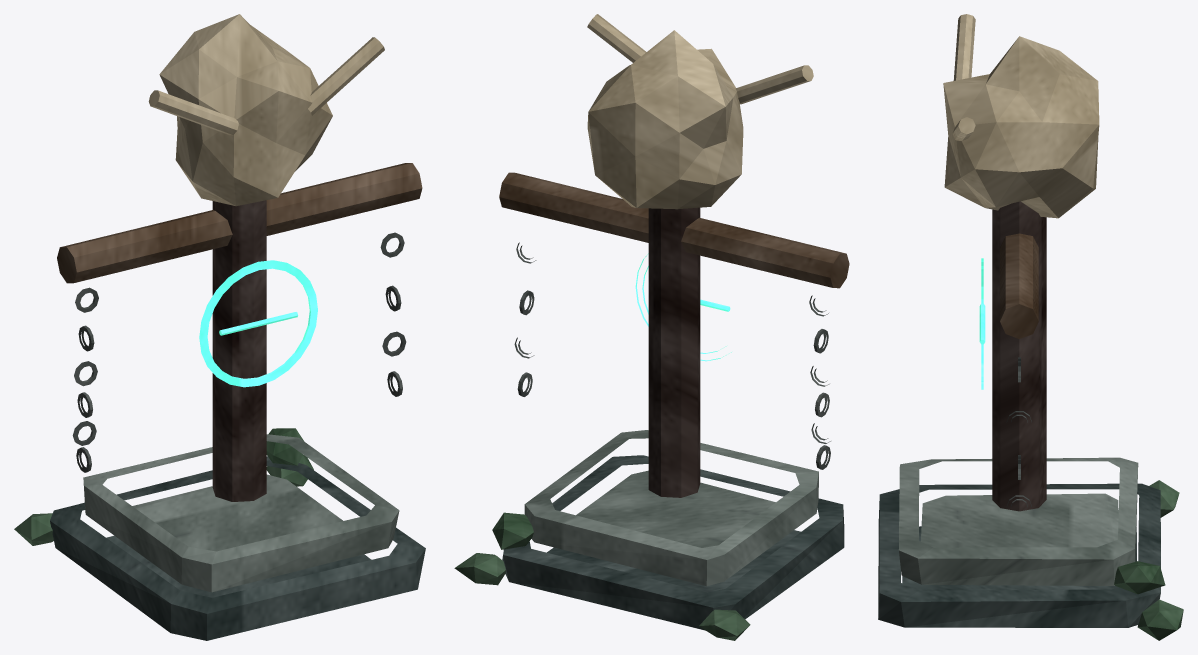
Rendered from 0523_effigy_23.glb.
3 views of the same model, side by side, from view 1: azimuth 30°, elevation 25°; view 2: azimuth 150°, elevation 25°; view 3: azimuth 270°, elevation 25° (orthographic). The views are drawn at different scales.
Visible parts, largest first — view 1: bone, stone, stone_dark, wood_dark, wood, glow, iron, moss; view 2: bone, stone, stone_dark, wood_dark, wood, moss, iron; view 3: bone, stone, stone_dark, wood_dark, wood, moss, glow.
Boxes of the visible parts, x1=… form: bone: x1=148, y1=14, x2=384, y2=206; stone: x1=83, y1=434, x2=399, y2=592; stone_dark: x1=50, y1=456, x2=425, y2=640; wood_dark: x1=212, y1=200, x2=266, y2=501; wood: x1=57, y1=163, x2=422, y2=283; glow: x1=199, y1=260, x2=317, y2=387; iron: x1=72, y1=232, x2=406, y2=472; moss: x1=14, y1=428, x2=313, y2=545; bone: x1=587, y1=14, x2=813, y2=209; stone: x1=524, y1=430, x2=818, y2=586; stone_dark: x1=502, y1=455, x2=844, y2=630; wood_dark: x1=648, y1=207, x2=700, y2=497; wood: x1=499, y1=172, x2=849, y2=288; moss: x1=454, y1=512, x2=750, y2=640; iron: x1=514, y1=242, x2=830, y2=469; bone: x1=943, y1=14, x2=1099, y2=218; stone: x1=898, y1=457, x2=1138, y2=585; stone_dark: x1=878, y1=483, x2=1160, y2=627; wood_dark: x1=992, y1=201, x2=1046, y2=511; wood: x1=1000, y1=233, x2=1038, y2=338; moss: x1=1114, y1=480, x2=1183, y2=640; glow: x1=979, y1=258, x2=985, y2=389.
Bounding box in the file's own units: 2 × 3.07 × 1.57.
Materials: 8 (8 with a texture image).
